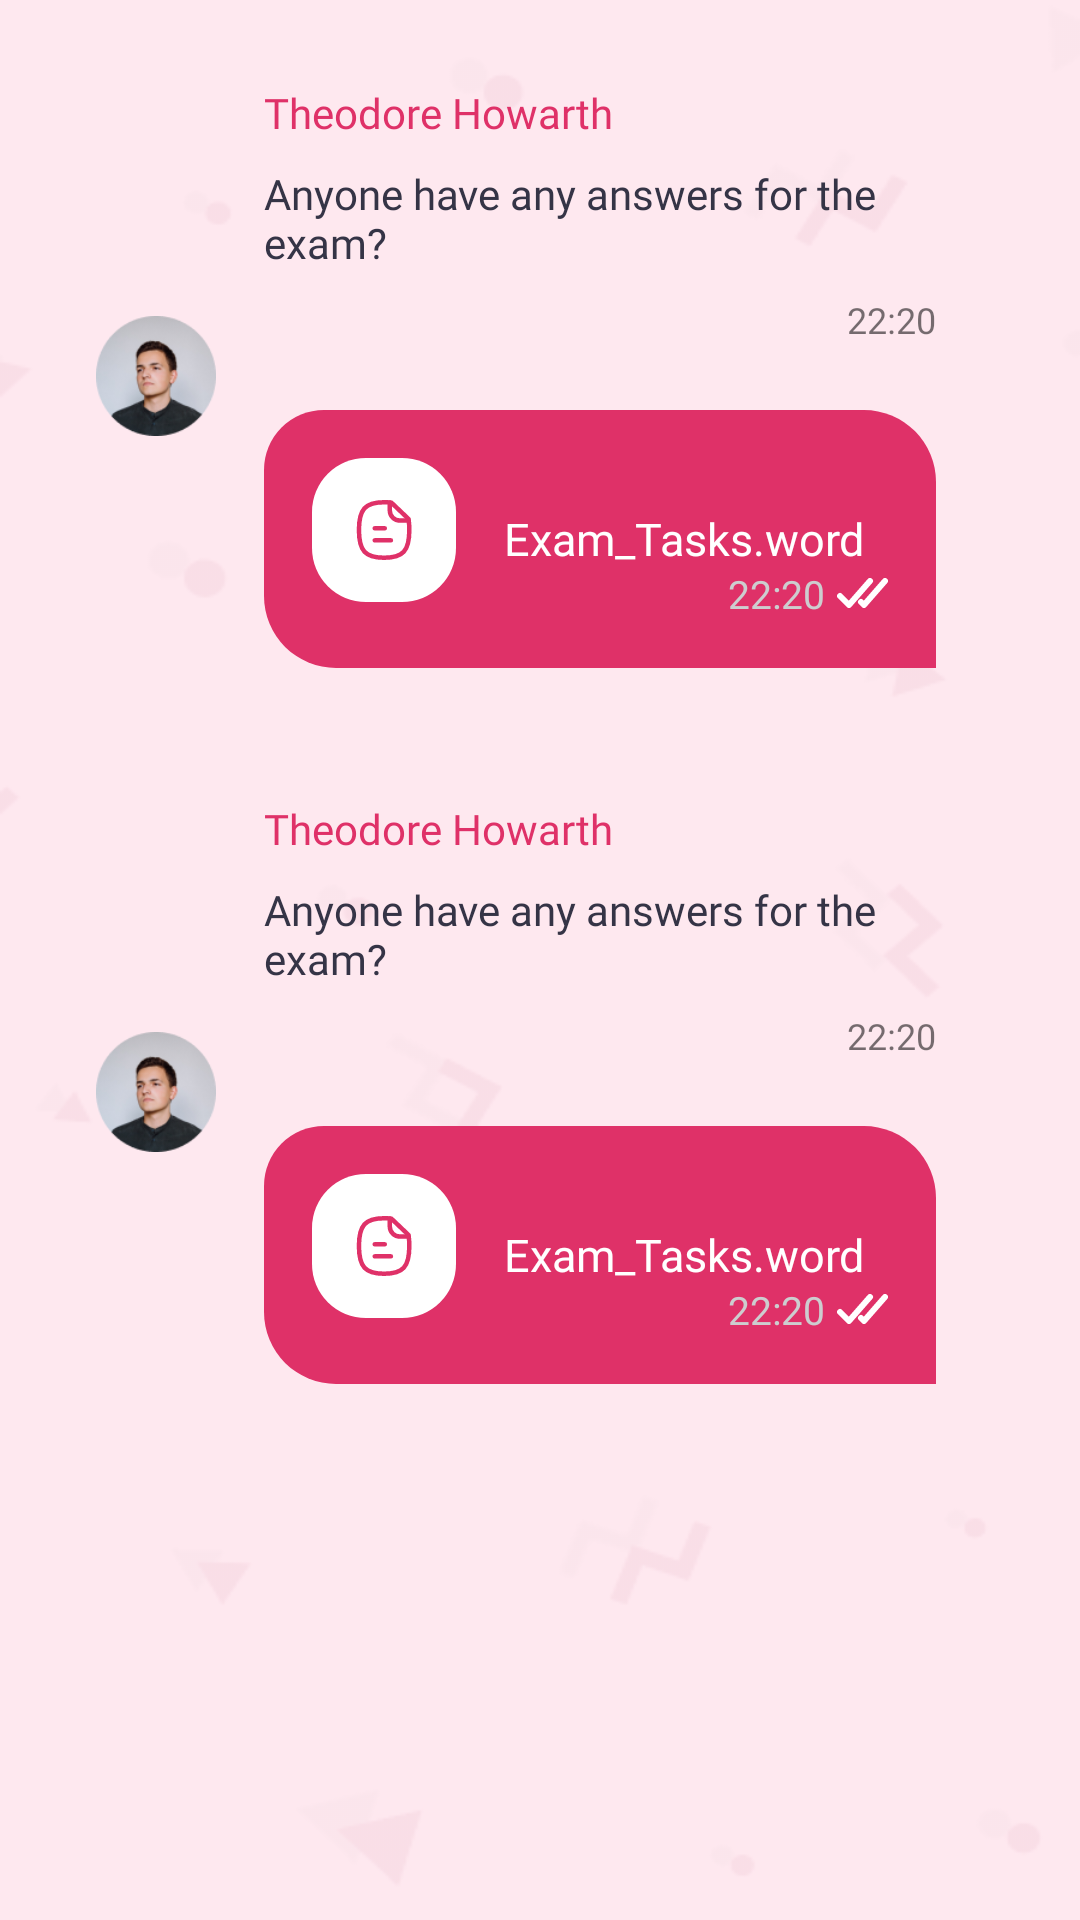

Named icons in this screenshot (1080x1920) and their centers, (x,y):
document: (384,530), (384,1246)
